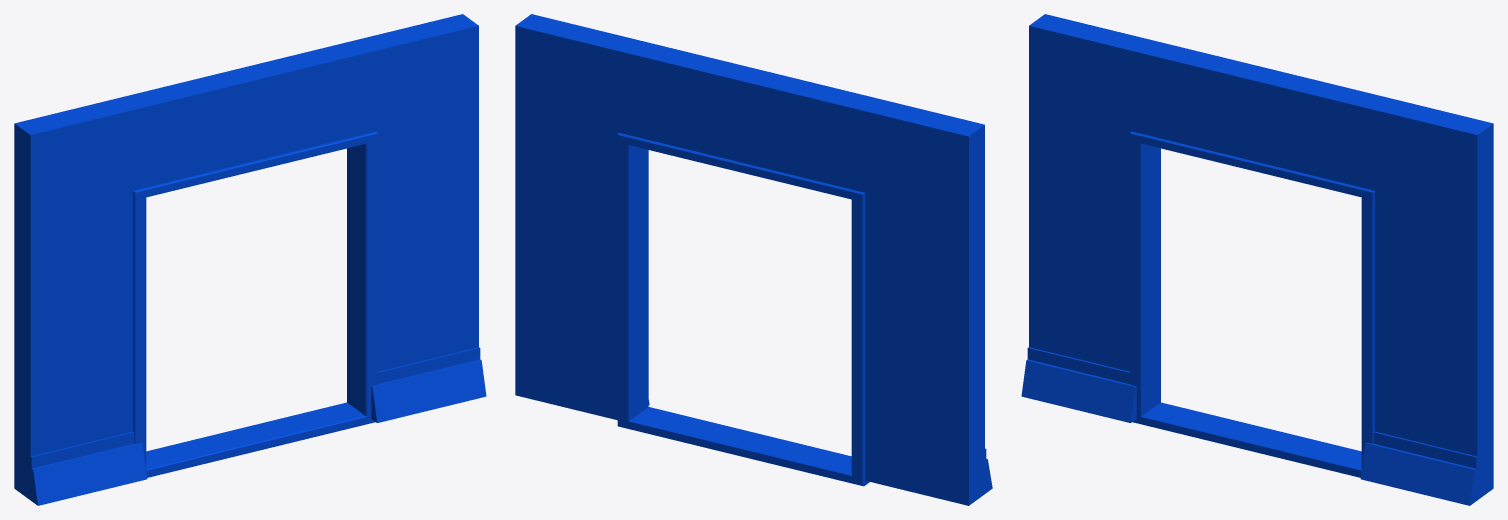
The model's file is MedbayDoorway.fbx.
3 views of the same model, side by side, from view 1: azimuth 30°, elevation 25°; view 2: azimuth 150°, elevation 25°; view 3: azimuth 330°, elevation 25° (orthographic).
Parts seen in each view (by area): view 1: MedbayDoorway; view 2: MedbayDoorway; view 3: MedbayDoorway.
Boxes of the visible parts, <box> form: MedbayDoorway: <box>14,14,486,505</box>; MedbayDoorway: <box>515,14,992,505</box>; MedbayDoorway: <box>1021,14,1493,505</box>.
Size of the model in its own units: 276 by 350 by 34.36.
